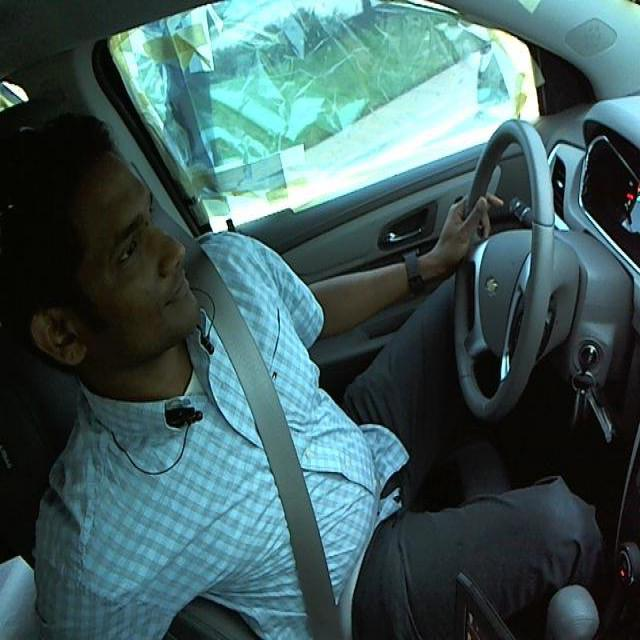seatbelt: (201, 298, 341, 630)
